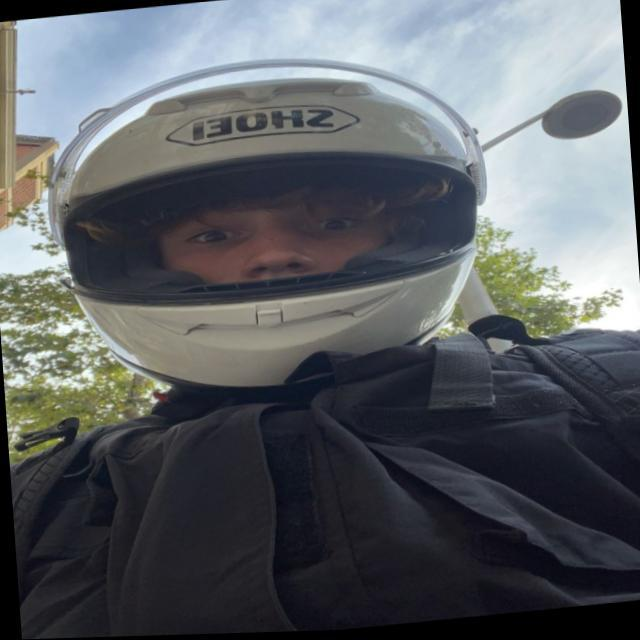Helmet: (43, 39, 490, 402)
